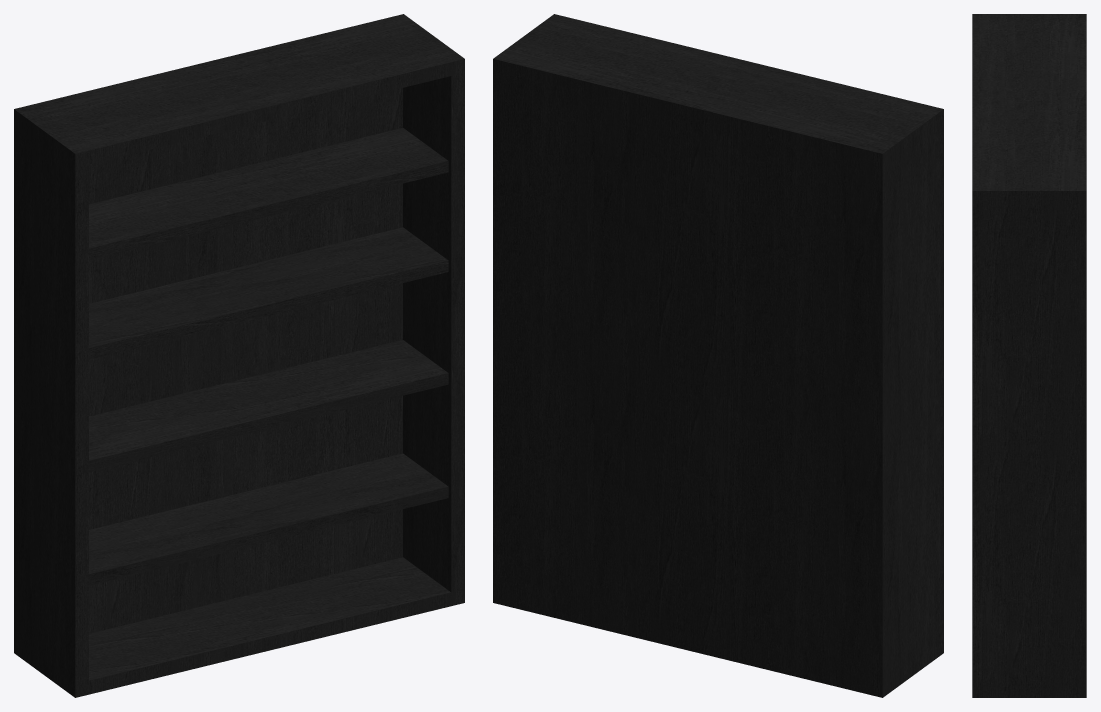
File: objShelf.obj
The picture shows the model from 3 angles, left to right: view 1: azimuth 30°, elevation 25°; view 2: azimuth 150°, elevation 25°; view 3: azimuth 270°, elevation 25°; orthographic projection. The views are drawn at different scales.
Visible parts, largest first — view 1: stand Book_shelf; view 2: stand Book_shelf; view 3: stand Book_shelf.
Boxes of the visible parts, <box> form: stand Book_shelf: <box>14,14,464,697</box>; stand Book_shelf: <box>493,14,943,697</box>; stand Book_shelf: <box>972,14,1086,697</box>.
Size of the model in its own units: 5.12 by 6.84 by 1.4.
